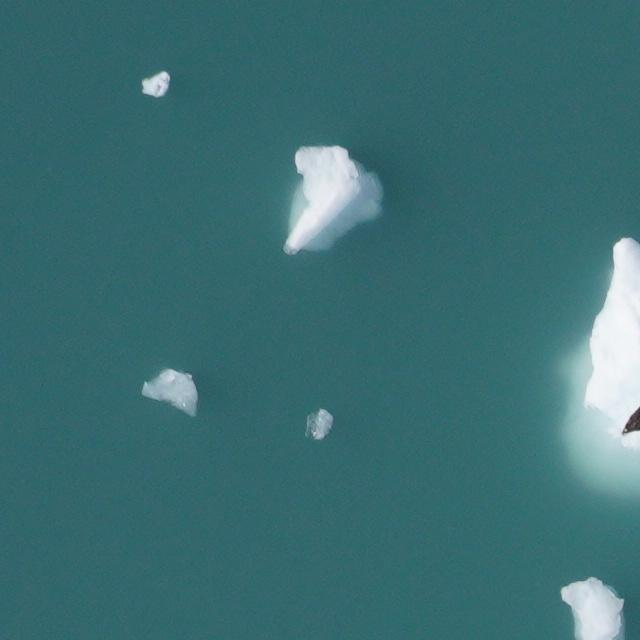seal: (622, 406, 639, 435)
